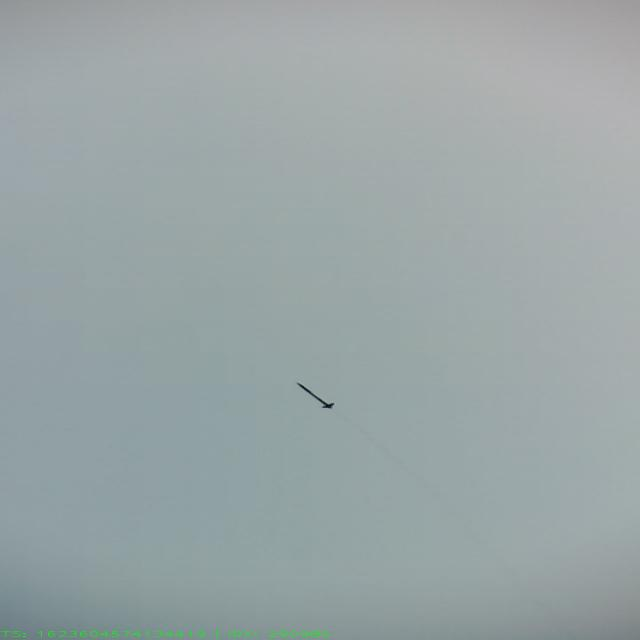Rocket: (294, 382, 334, 408)
